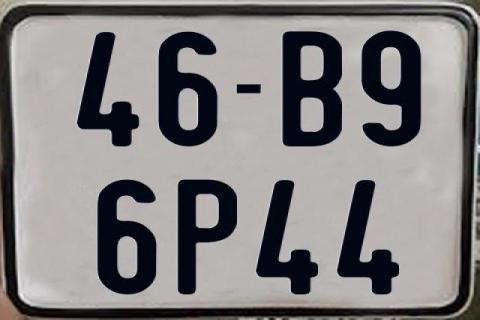0: (74, 32, 142, 150), (254, 179, 320, 297), (361, 30, 424, 148), (334, 180, 396, 298), (158, 30, 219, 148), (95, 178, 157, 294)
B: (283, 31, 342, 147)
P: (177, 179, 237, 297)
